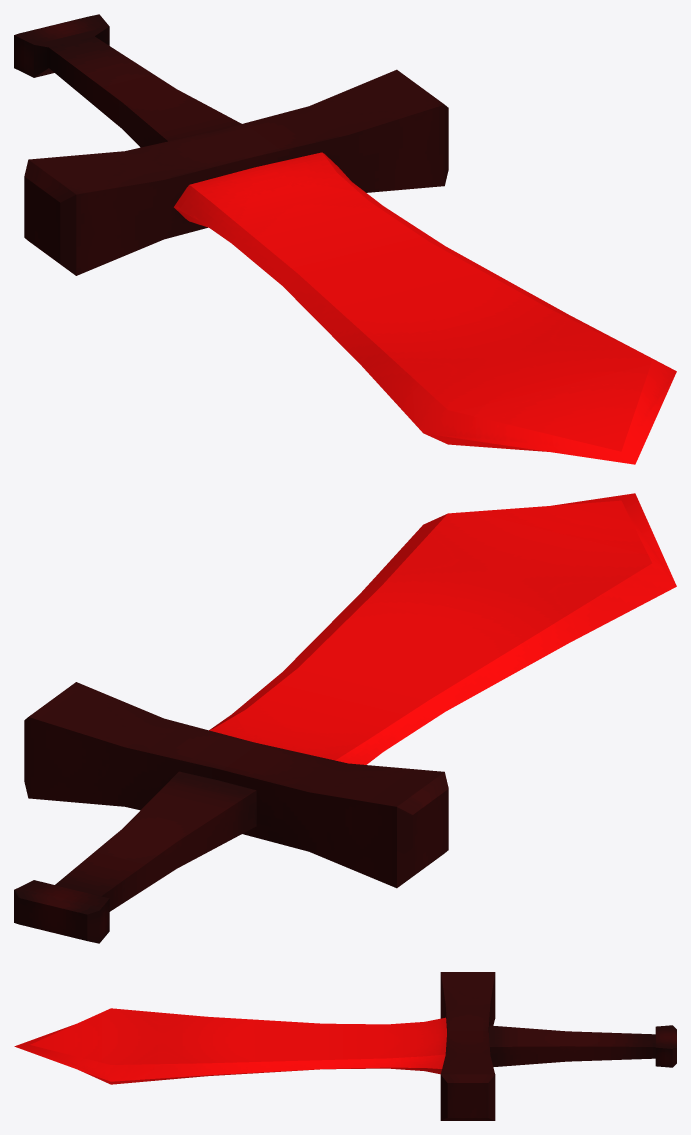
The model's file is M_SwordToyC.glb.
The picture shows the model from 3 angles, top to bottom: view 1: azimuth 30°, elevation 25°; view 2: azimuth 150°, elevation 25°; view 3: azimuth 270°, elevation 25°; orthographic projection. The views are drawn at different scales.
Visible parts, largest first — view 1: SM_SwordToy; view 2: SM_SwordToy; view 3: SM_SwordToy.
Part boxes in pixels (bbox=[...]): SM_SwordToy: bbox=[14, 14, 676, 464]; SM_SwordToy: bbox=[14, 493, 676, 943]; SM_SwordToy: bbox=[14, 972, 676, 1120].
Size of the model in its own units: 0.3247 by 0.0651 by 0.8431.
1 material, 1 textured.
